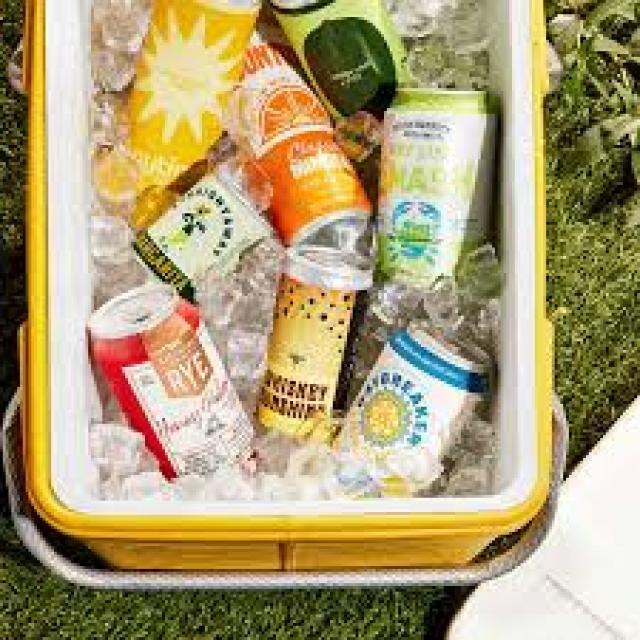Cans: (88, 278, 259, 481), (219, 40, 375, 239), (373, 83, 509, 284), (336, 322, 498, 484), (259, 242, 364, 444)
